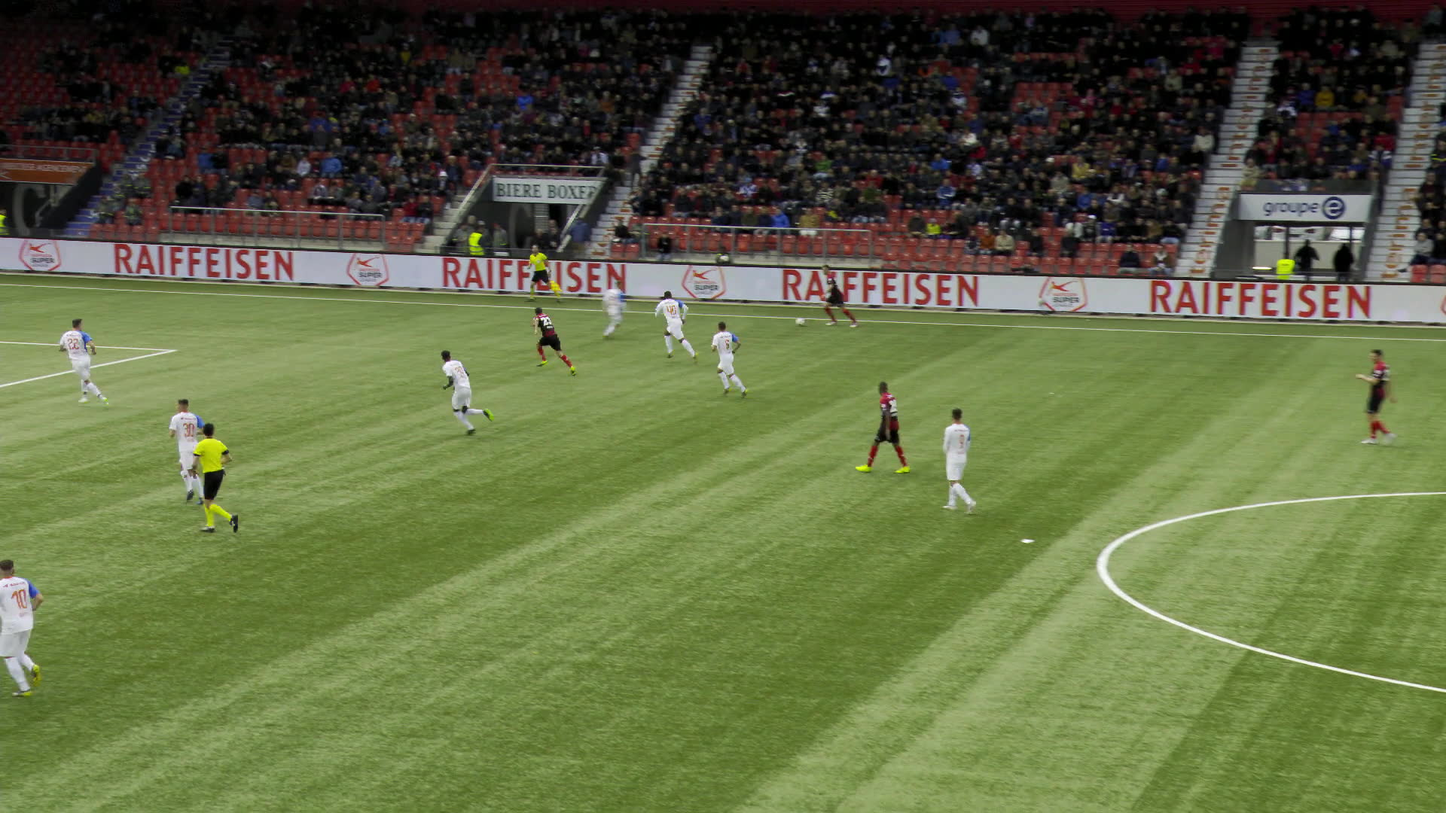ball: (792, 315, 800, 323)
player: (0, 556, 49, 694), (440, 347, 499, 434), (58, 320, 106, 408), (858, 379, 901, 472), (933, 406, 969, 512), (168, 401, 202, 503), (1344, 346, 1377, 443), (707, 323, 742, 396), (653, 292, 688, 363), (816, 266, 850, 326), (534, 309, 563, 373), (588, 282, 617, 338)
referee: (190, 419, 241, 534), (523, 243, 551, 301)
